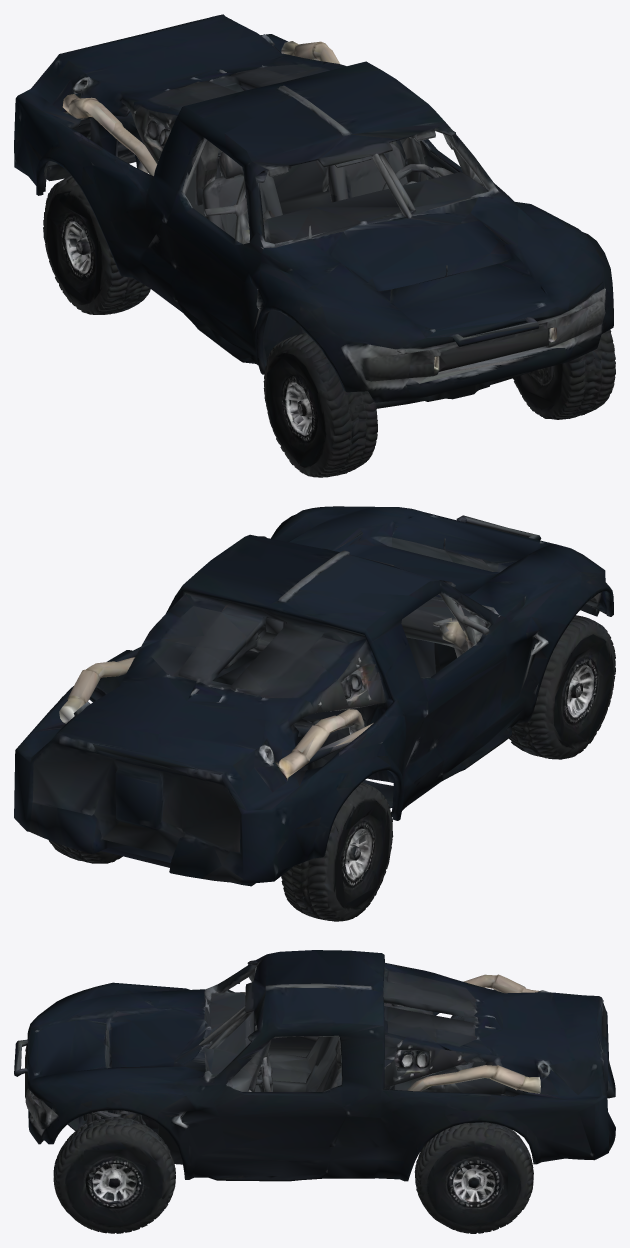
Rendered from VEH_M_BlackRaceTruck.glb.
3 views of the same model, one above another, from view 1: azimuth 30°, elevation 25°; view 2: azimuth 150°, elevation 25°; view 3: azimuth 270°, elevation 25° (orthographic). The views are drawn at different scales.
Parts seen in each view (by area): view 1: VEH_M_BlackRaceTruck; view 2: VEH_M_BlackRaceTruck; view 3: VEH_M_BlackRaceTruck.
Part boxes in pixels (left/top/right/bottom): VEH_M_BlackRaceTruck: left=14, top=14, right=615, bottom=477; VEH_M_BlackRaceTruck: left=14, top=506, right=615, bottom=921; VEH_M_BlackRaceTruck: left=14, top=950, right=615, bottom=1233.
Size of the model in its own units: 2.36 by 1.77 by 4.9.
Materials: 1 (1 with a texture image).
